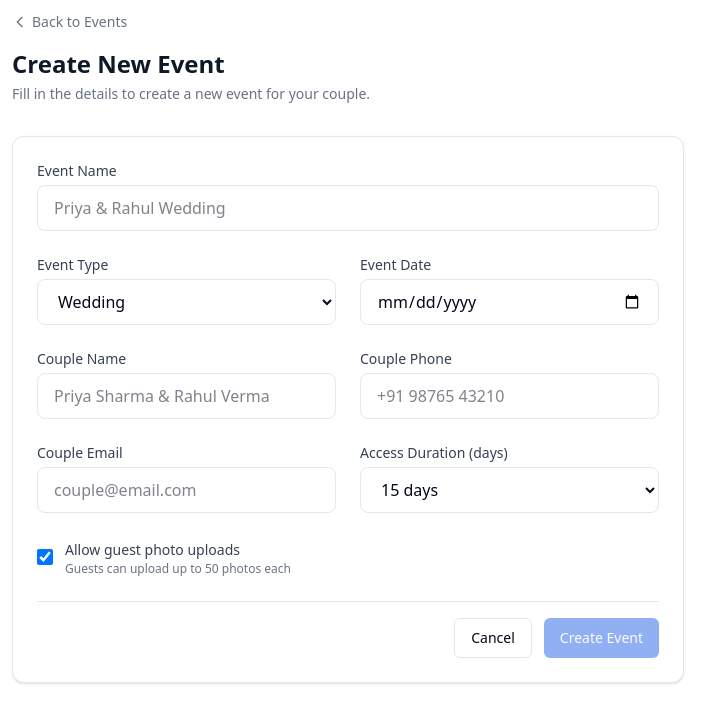
Test: NewEventPage › enables submit when name is filled
The width and height of the screenshot is (701, 701).
Type "Test Wedding" into the field labelled "Event Name" at (348, 208), box 37,185 -> 659,231
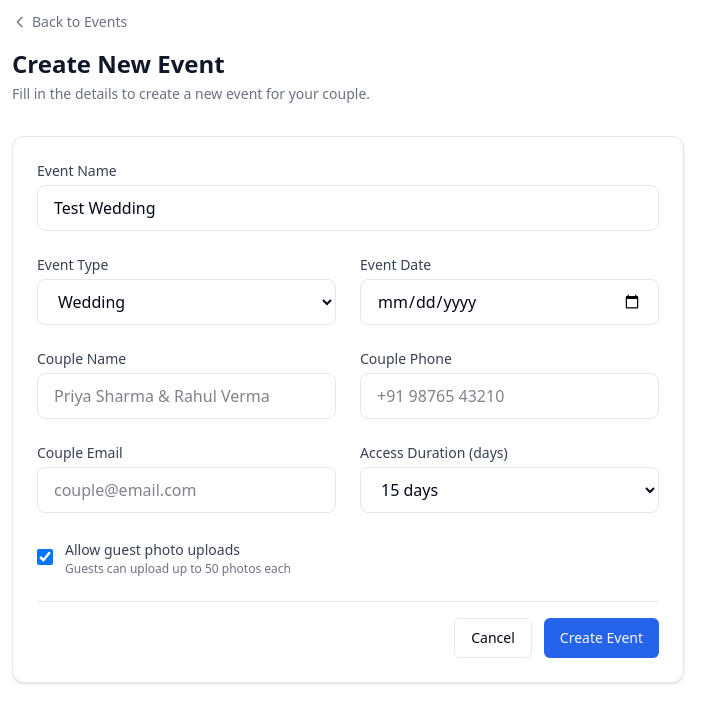
Now the button "Create Event" is enabled, box 544,618 -> 659,658
